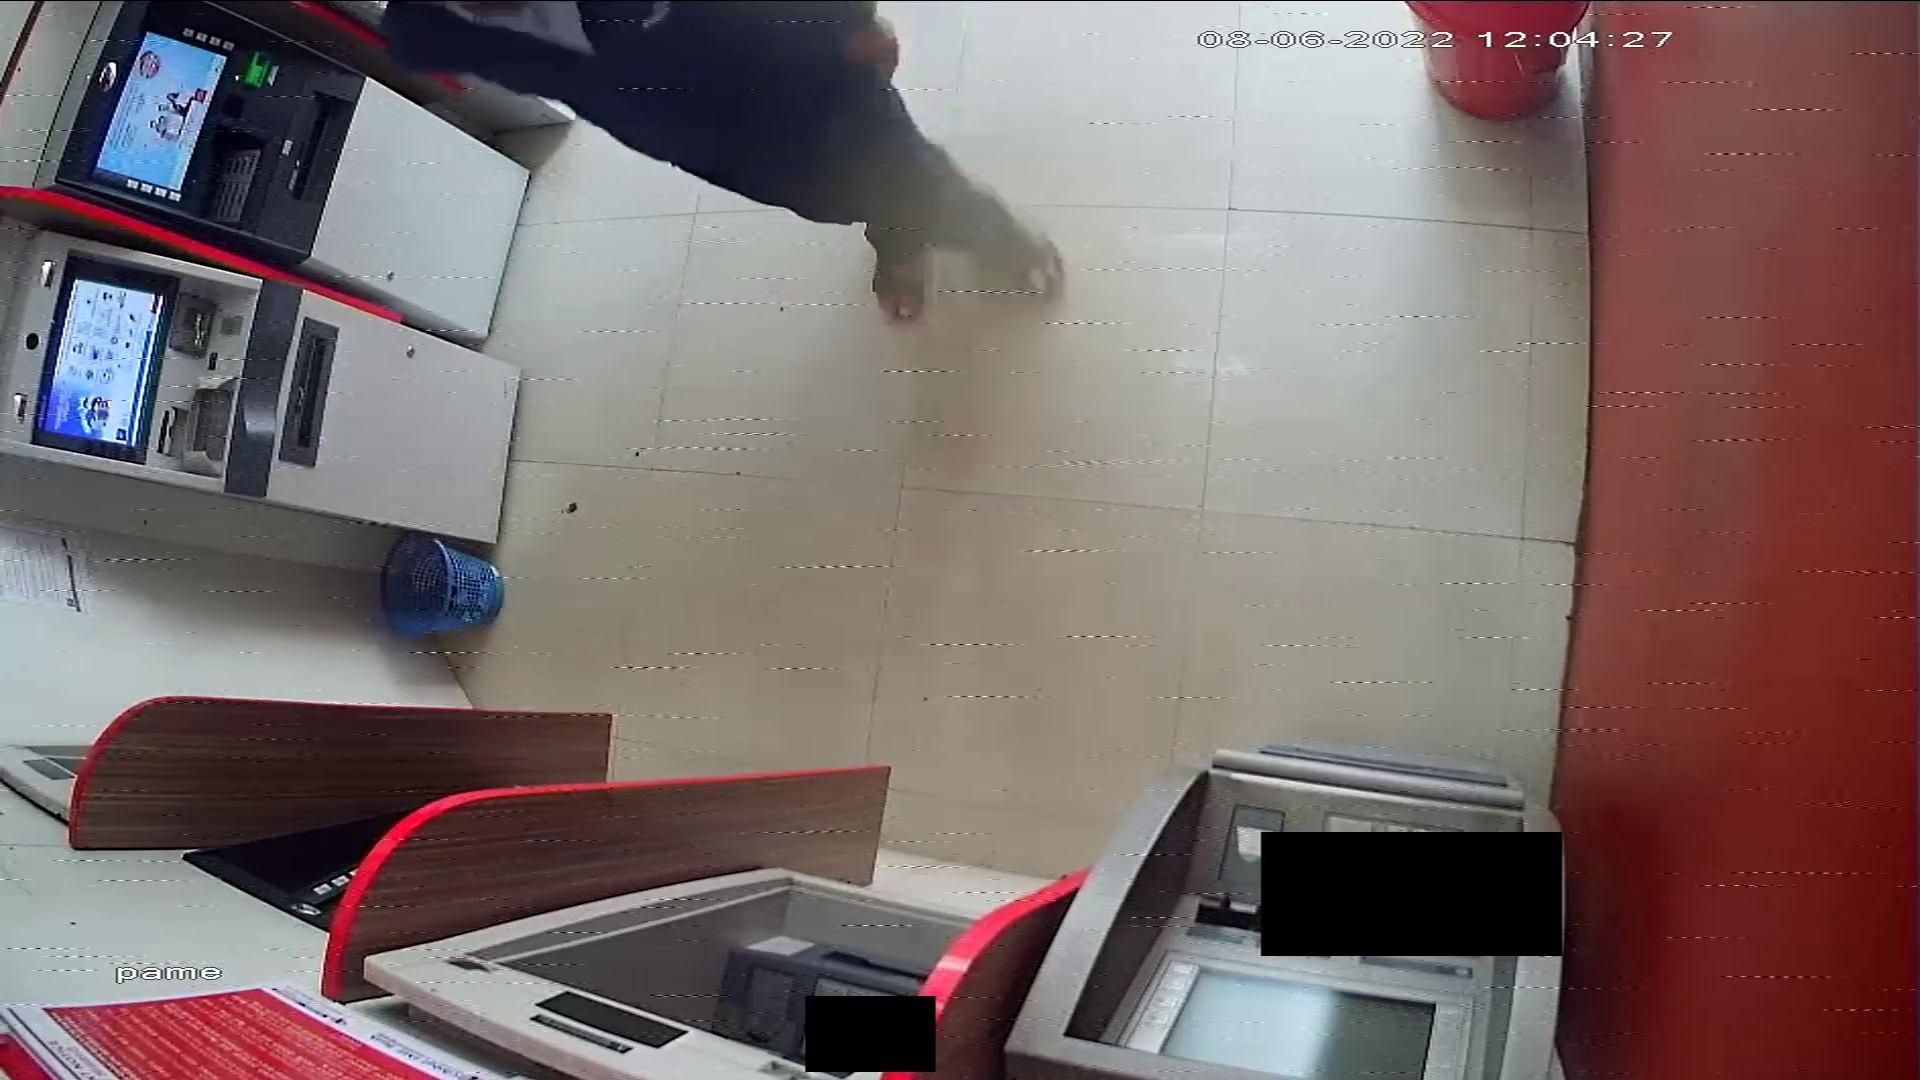person: (381, 1, 1069, 321)
